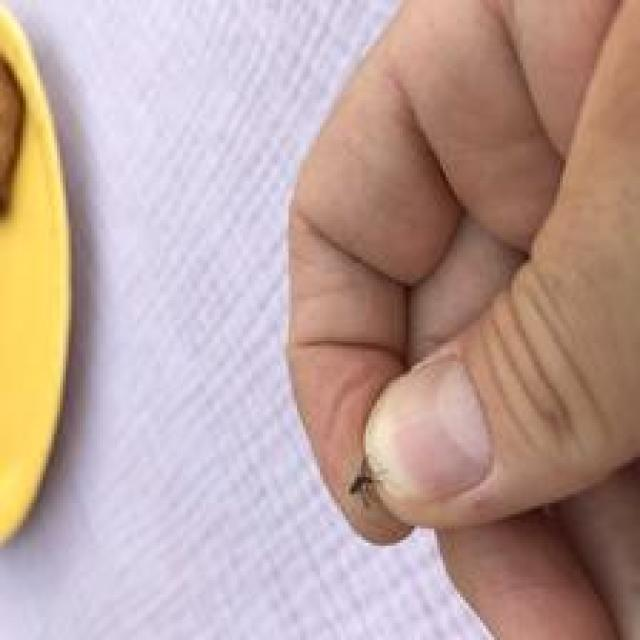Aedes albopictus: (0, 0, 74, 554)
